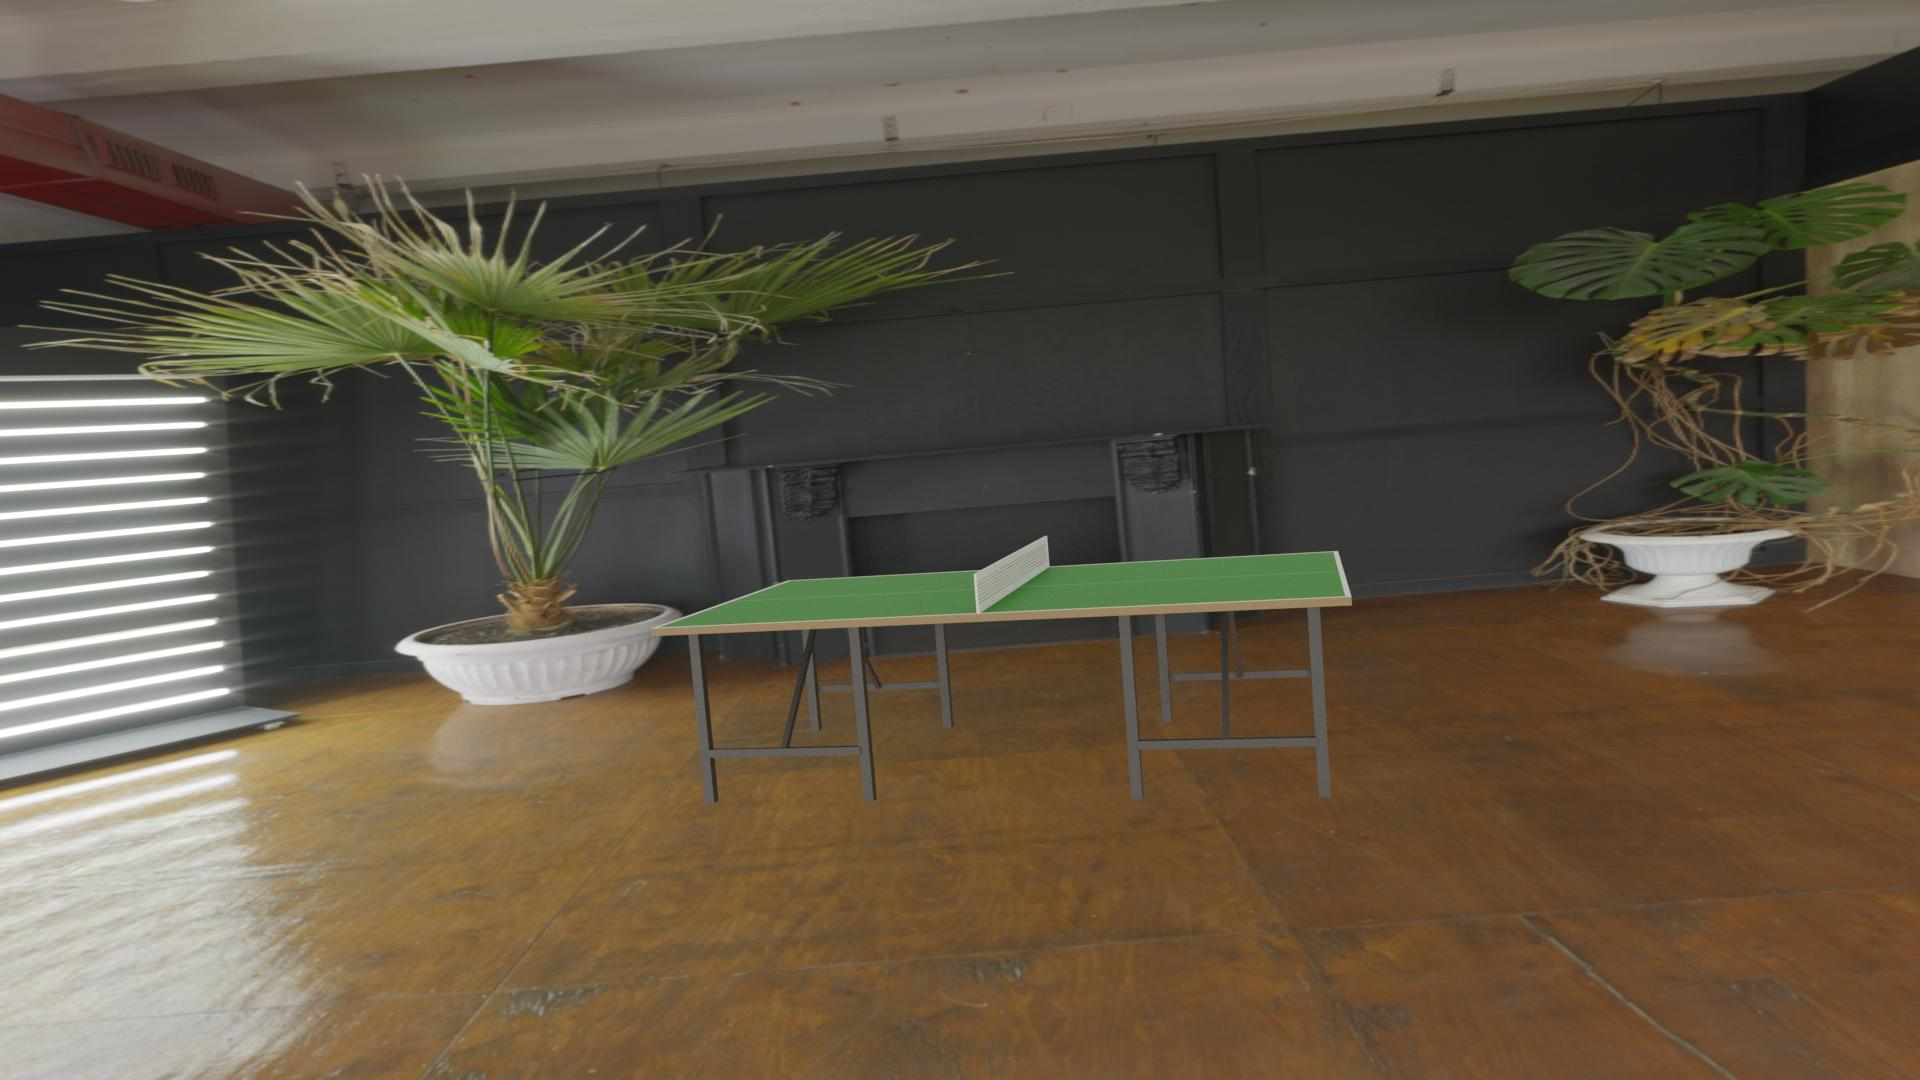table: (658, 551, 1345, 628)
